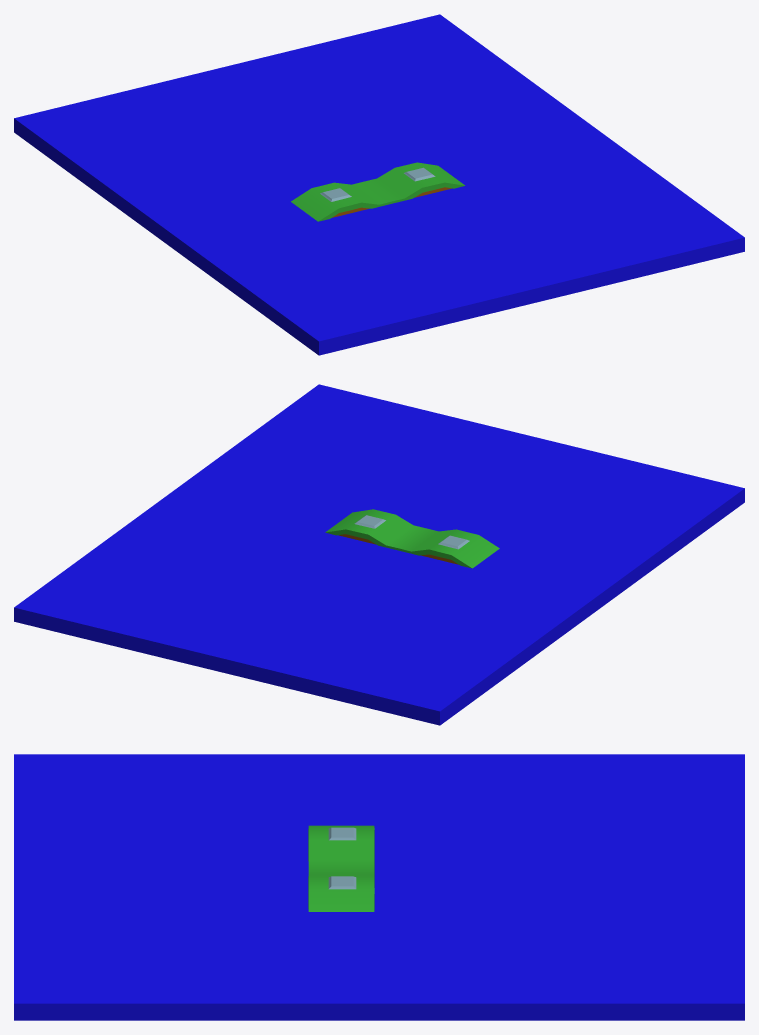
Rendered from Map01Prototype.FBX.
3 renders of one model, top to bottom at view 1: azimuth 30°, elevation 25°; view 2: azimuth 150°, elevation 25°; view 3: azimuth 270°, elevation 25°, orthographic. The views are drawn at different scales.
Visible parts, largest first — view 1: Water, Terrain; view 2: Water, Terrain; view 3: Water, Terrain.
Part boxes in pixels (bbox=[...]): Water: bbox=[14, 14, 744, 355]; Terrain: bbox=[291, 162, 464, 221]; Water: bbox=[14, 384, 744, 725]; Terrain: bbox=[325, 509, 499, 568]; Water: bbox=[14, 754, 744, 1020]; Terrain: bbox=[308, 825, 374, 911].
Size of the model in its own units: 30569 by 1658 by 37898.
